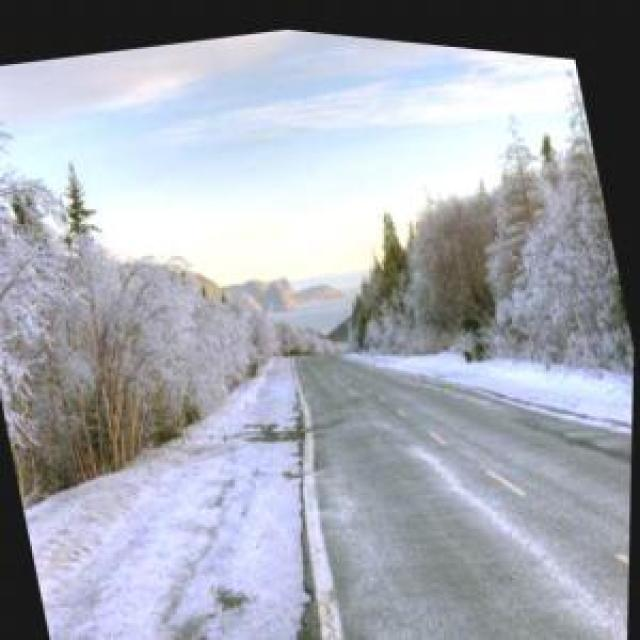ice-road: (292, 345, 634, 640)
